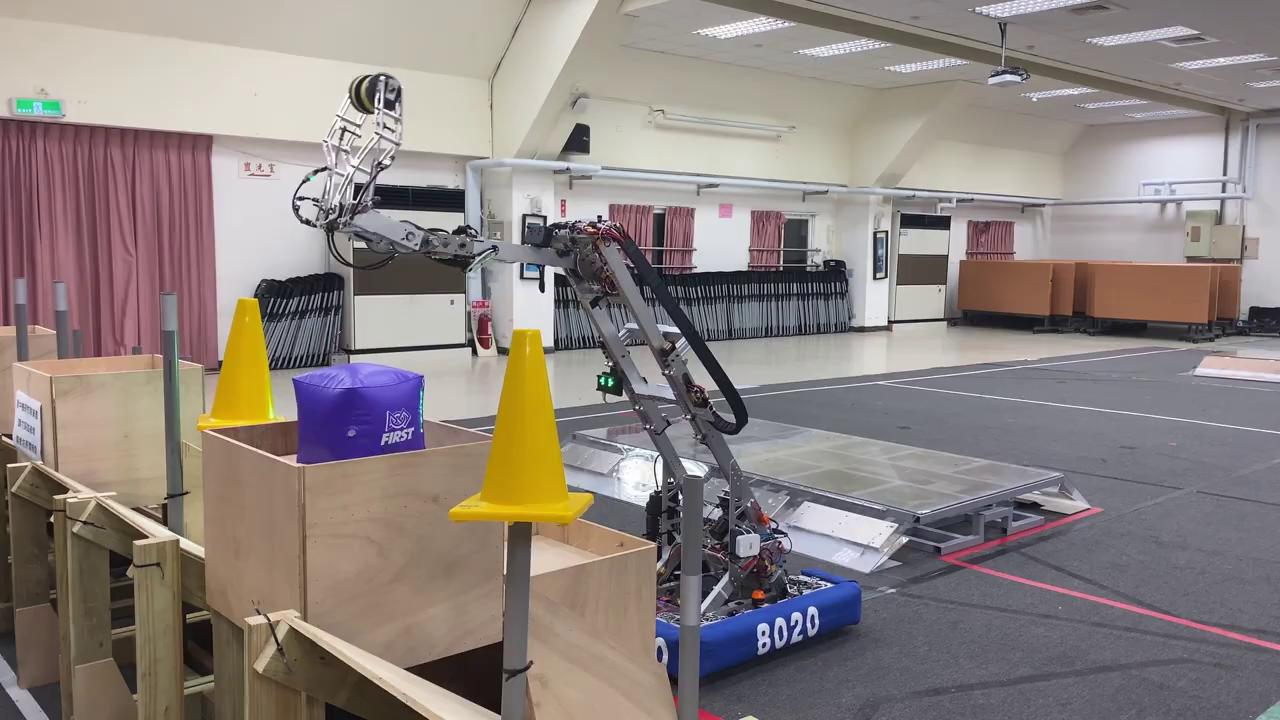robot: (309, 73, 861, 684)
